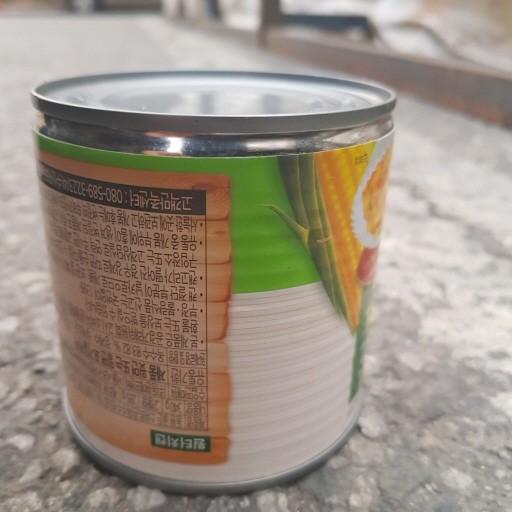Metal_1: (28, 65, 399, 493)
